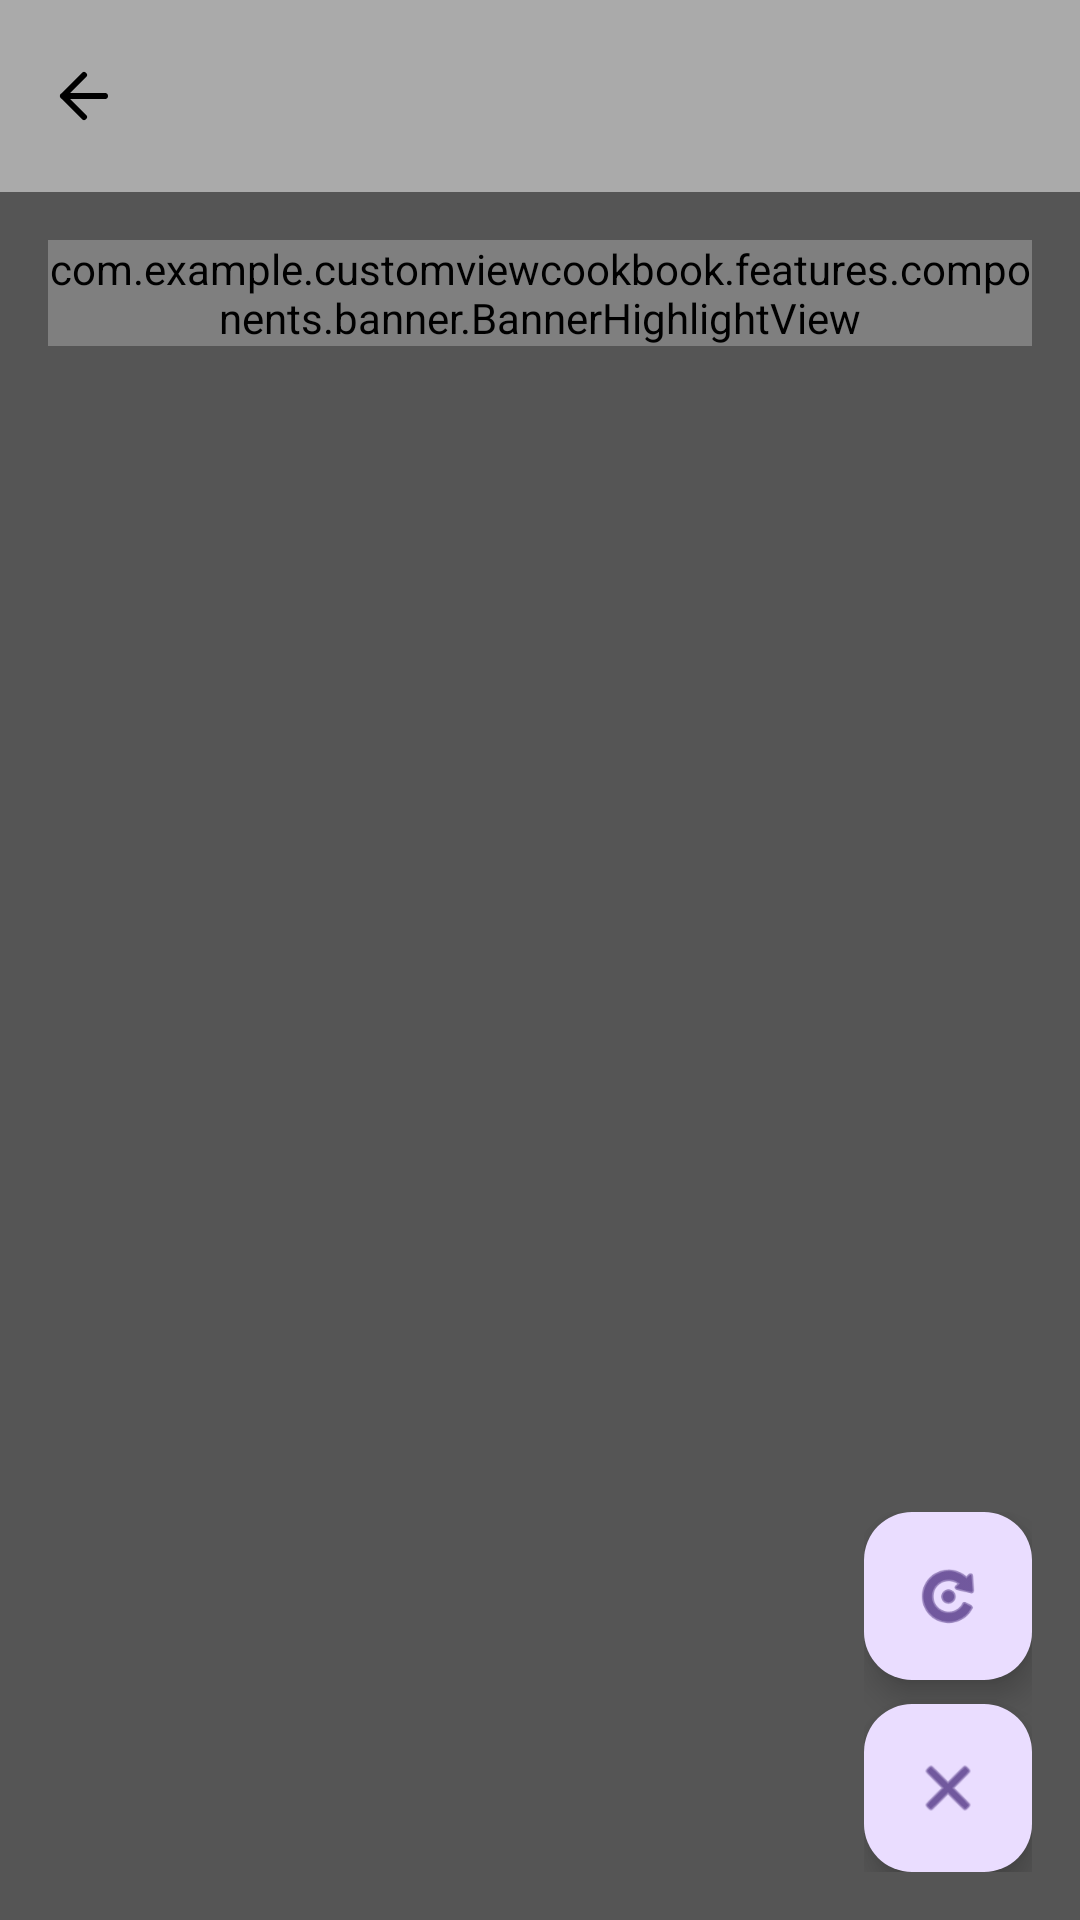

Where to tap for icons on this 1080 × 1920 app screen, as [x,y]:
simular erro na contagem: [948,1788]
simular reinicio da contagem: [948,1596]
